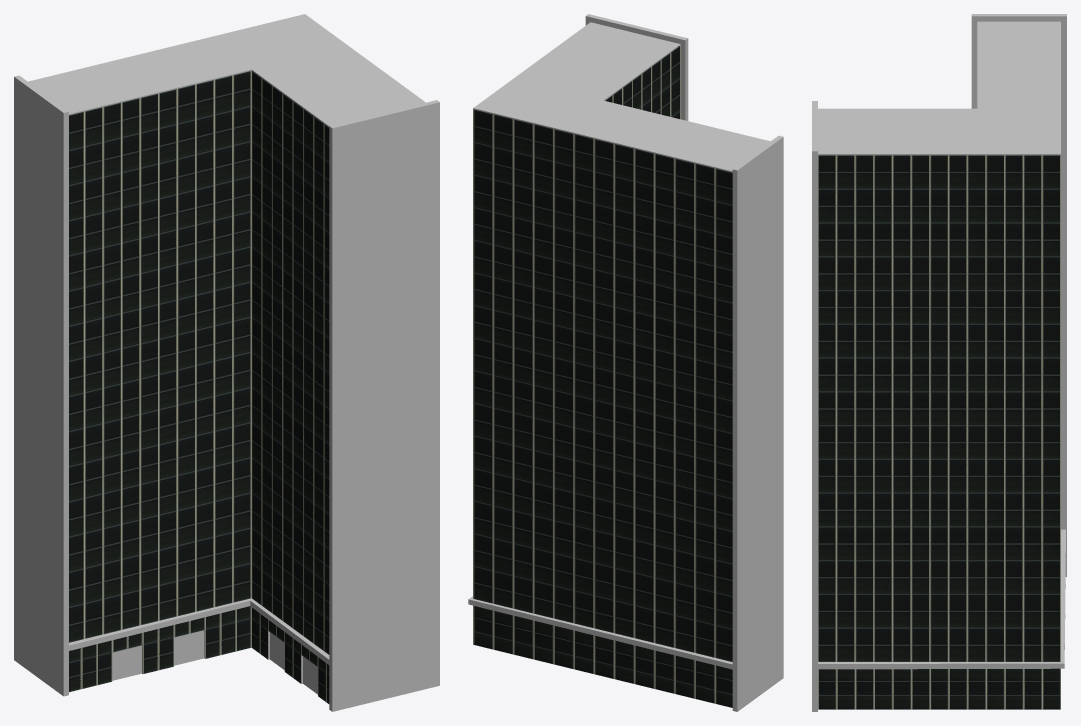
The picture shows the model from 3 angles, left to right: view 1: azimuth 30°, elevation 25°; view 2: azimuth 150°, elevation 25°; view 3: azimuth 270°, elevation 25°; orthographic projection. The views are drawn at different scales.
Visible parts, largest first — view 1: BC-093; view 2: BC-093; view 3: BC-093.
Part boxes in pixels (x1,y1,x2,y2): BC-093: [14, 14, 439, 711]; BC-093: [468, 14, 783, 711]; BC-093: [812, 14, 1066, 711].
Size of what is drawn, in the model's own units: 27.92 by 53.1 by 21.88.
